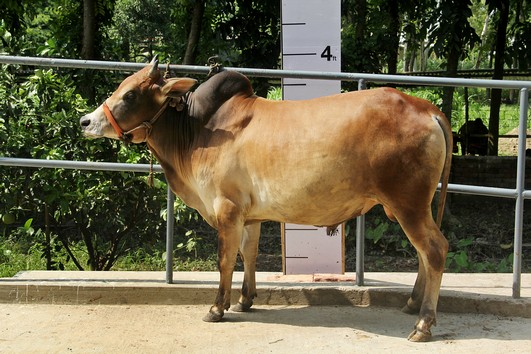cow: (68, 49, 453, 348)
